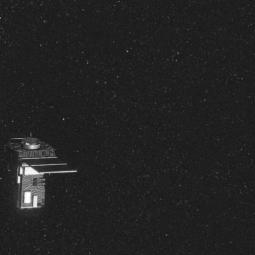soho: (0, 128, 79, 213)
